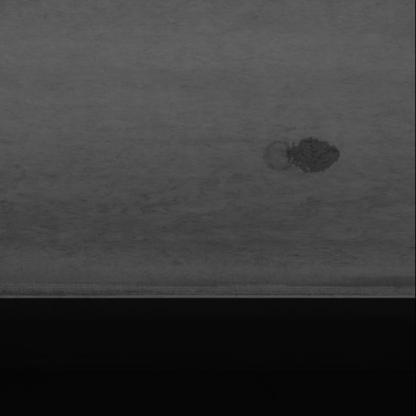oil_spot: (262, 139, 340, 172)
silk_spot: (14, 180, 389, 272)
